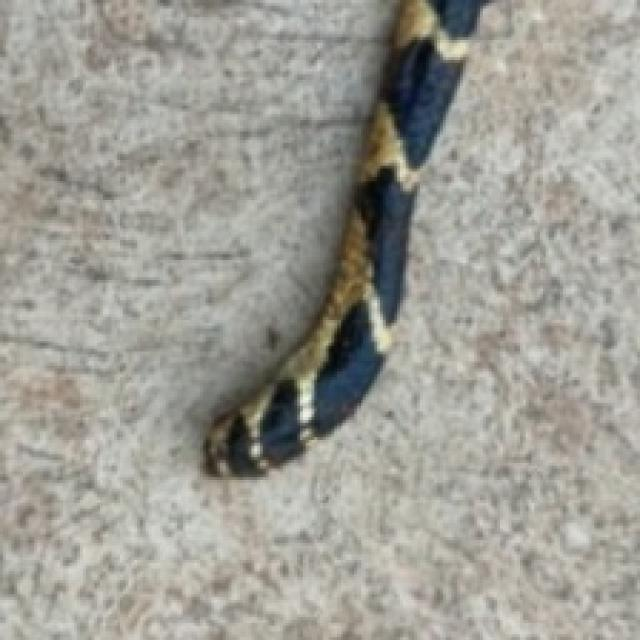king cobra: (206, 0, 486, 474)
